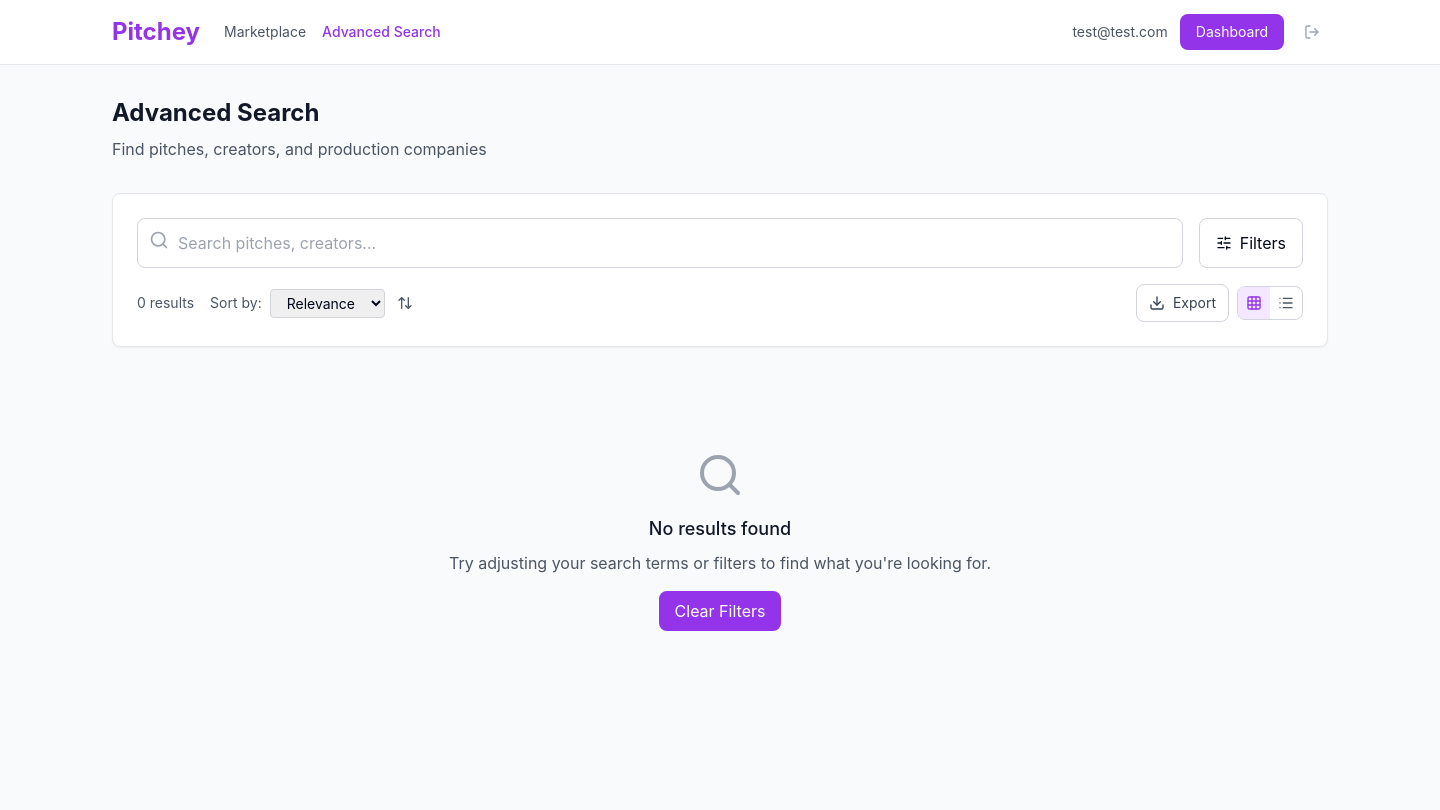
Test: AdvancedSearch › Filters Sidebar › renders Minimum Rating filter
The width and height of the screenshot is (1440, 810).
What coordinates should you click on to do the following:
click the button "Filters"
I would click on:
 (1251, 243)
Its box is top-left (1199, 218), bottom-right (1303, 268).
(page scrolled)
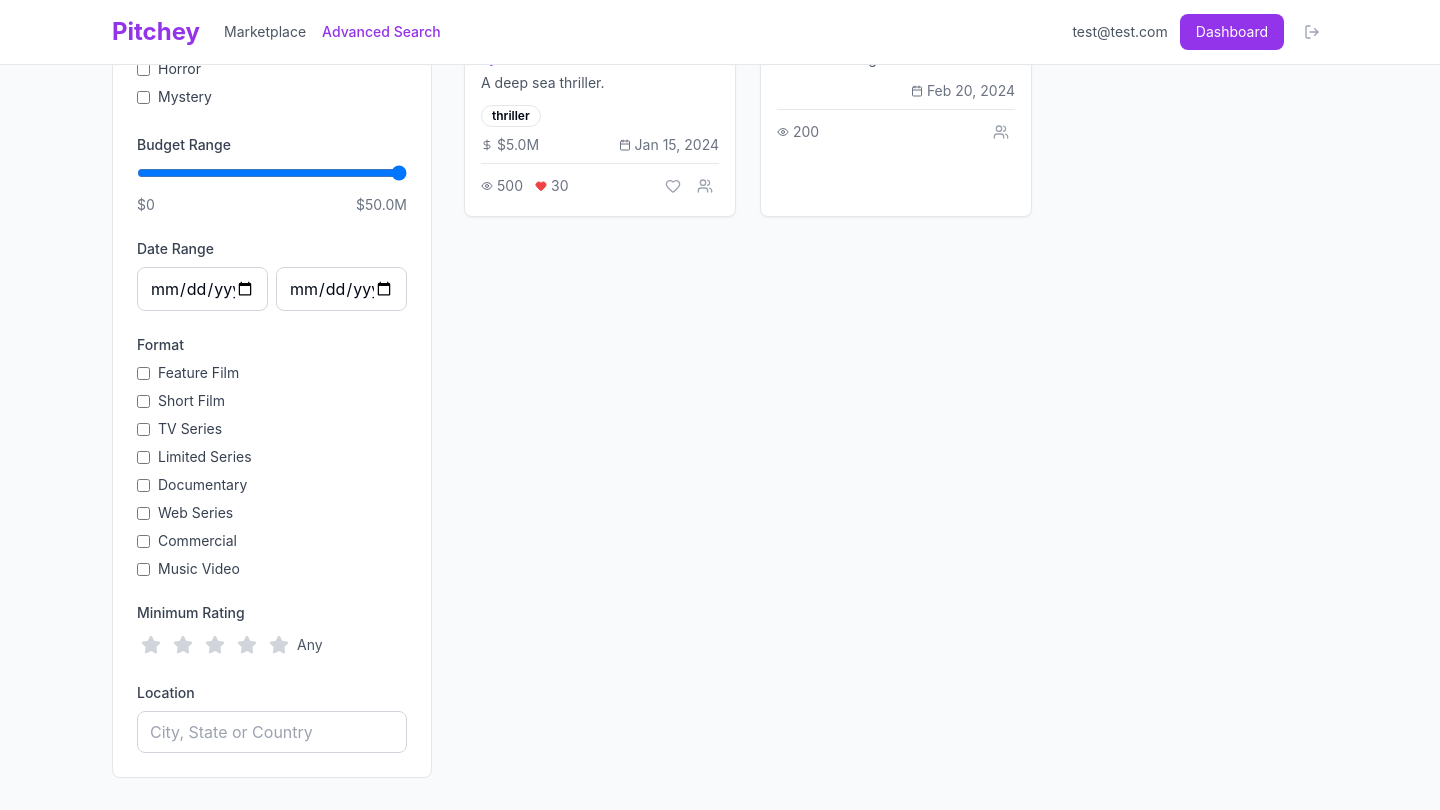
Result: the text "Minimum Rating" is shown at top-left (137, 604), bottom-right (245, 621)
